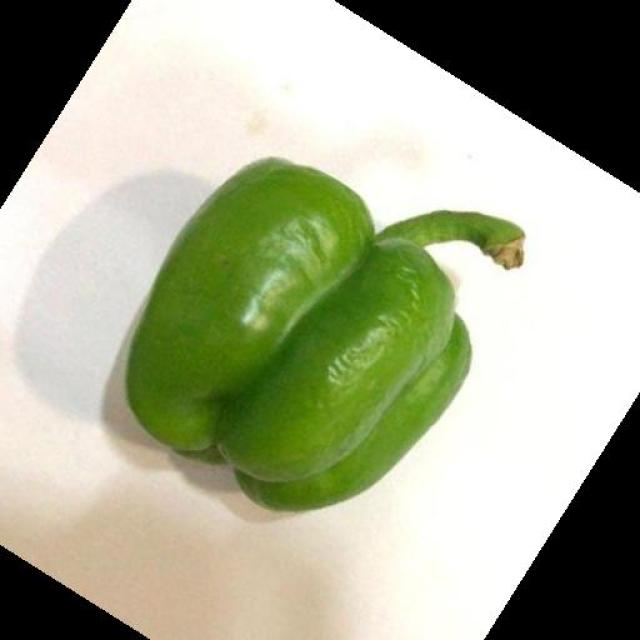Fresh_Capsicum: (163, 107, 556, 503)
